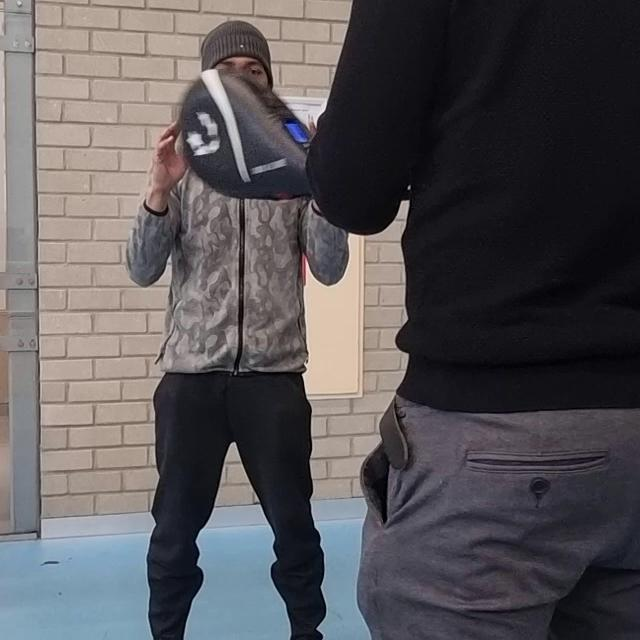paddle: (180, 70, 313, 202)
